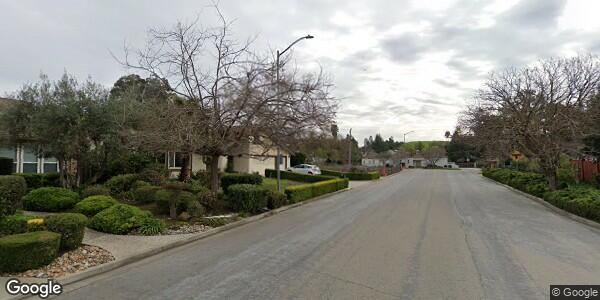Steel_Pole: (275, 32, 316, 193)
